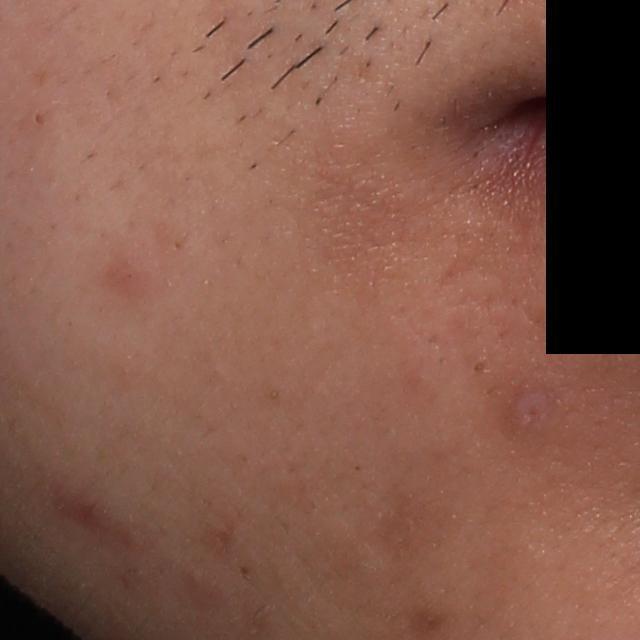comedo: (27, 108, 51, 131), (468, 354, 491, 377)
papule: (497, 374, 559, 438)
